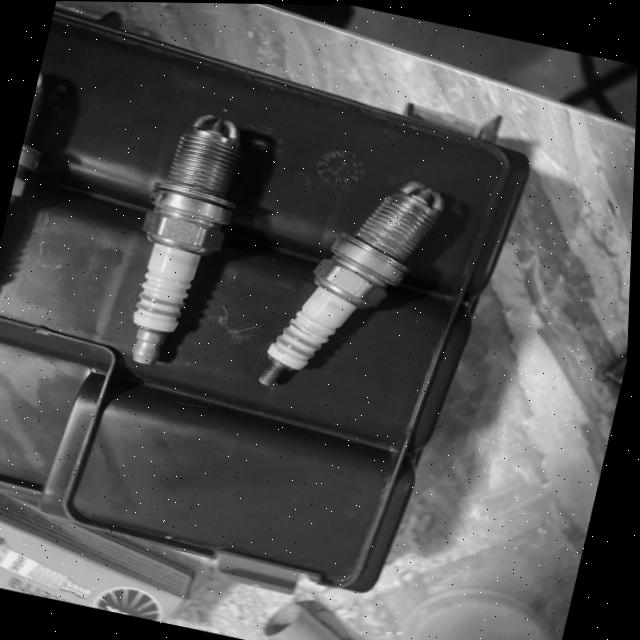spark-plug: (252, 153, 458, 416), (116, 99, 263, 380)
